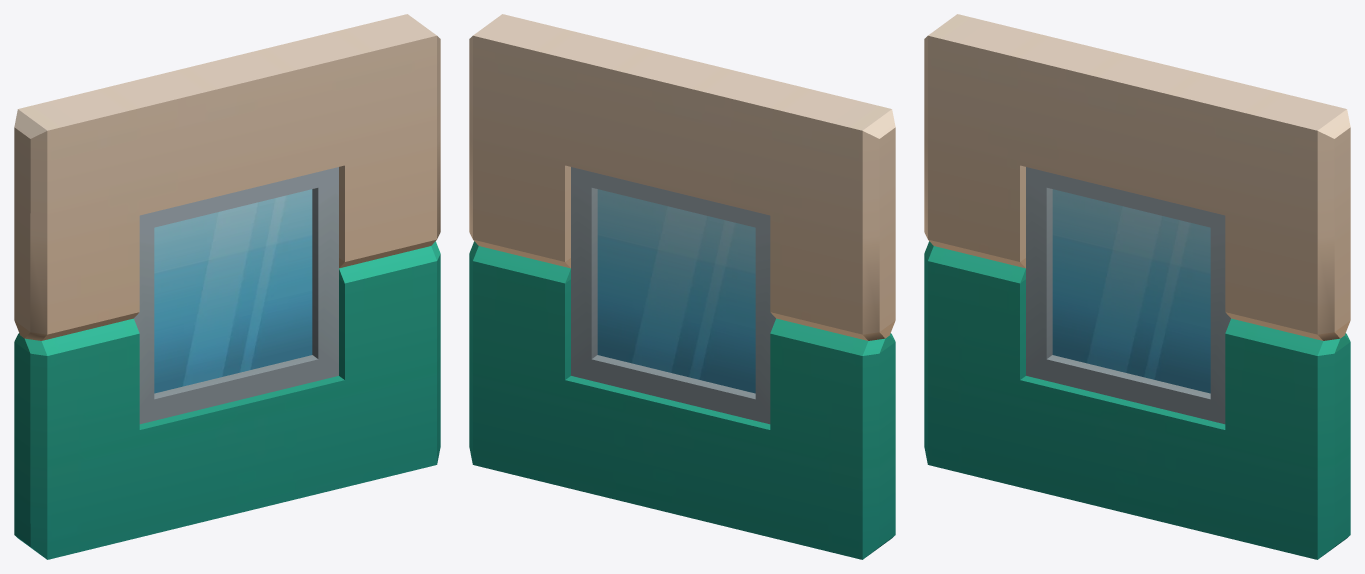
The model's file is wall_window.glb.
3 views of the same model, side by side, from view 1: azimuth 30°, elevation 25°; view 2: azimuth 150°, elevation 25°; view 3: azimuth 330°, elevation 25° (orthographic).
Parts seen in each view (by area): view 1: wall_window_closed; view 2: wall_window_closed; view 3: wall_window_closed.
Part boxes in pixels (x1,y1,x2,y2): wall_window_closed: [14, 14, 440, 559]; wall_window_closed: [469, 14, 895, 559]; wall_window_closed: [924, 14, 1350, 559].
Size of the model in its own units: 4 by 4 by 0.5.
1 material, 1 textured.
